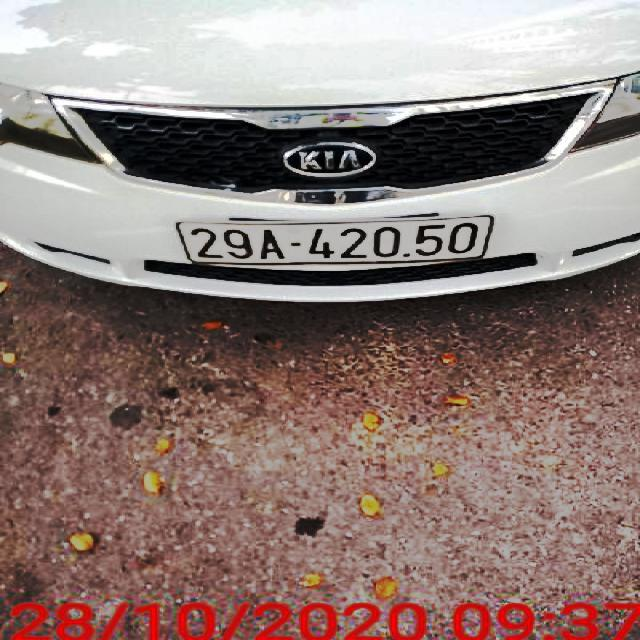license_plate: (175, 220, 494, 263)
